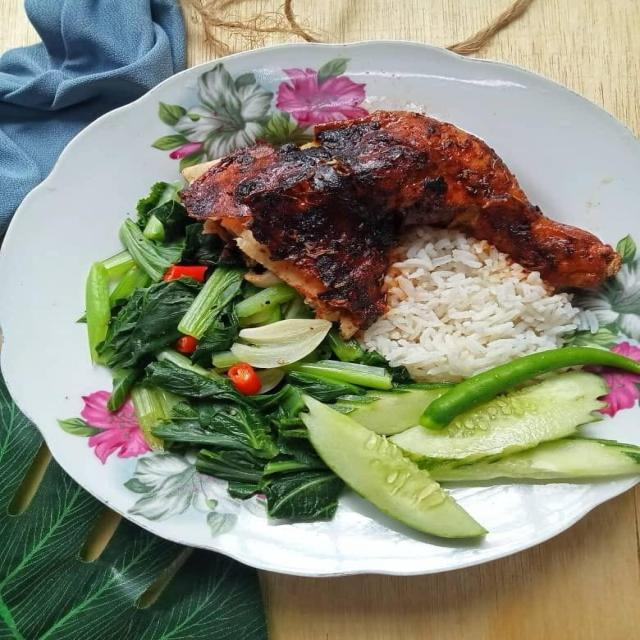Chicken: (177, 109, 621, 335)
Plate: (8, 65, 639, 574)
Rice: (365, 228, 577, 379)
Vegetables: (85, 184, 639, 540)
